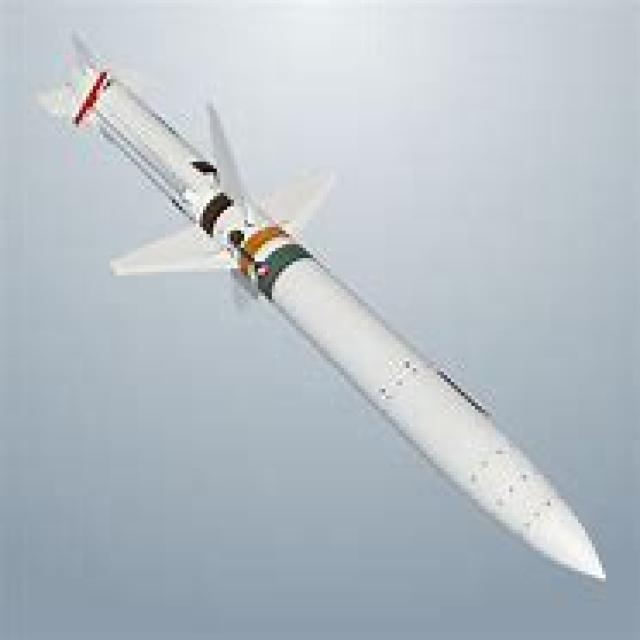missile: (34, 29, 606, 582)
